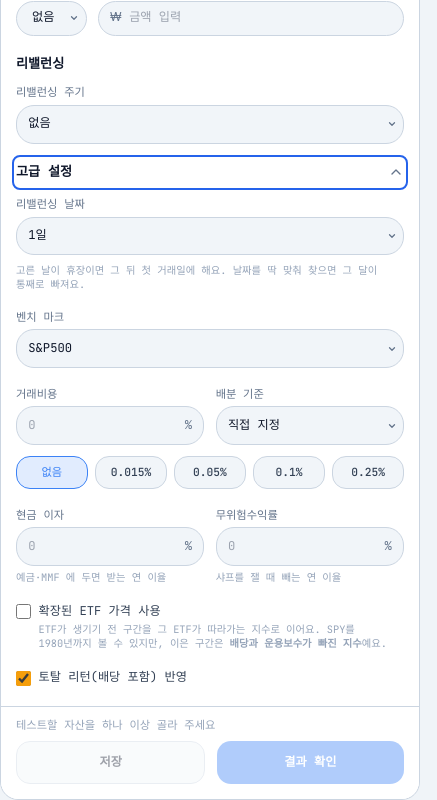
사진에 있던 나머지 항목 › 흔한 수수료는 버튼으로 한 번에 — '반영 안 함' 은 칩에 '없음' 으로(잘리지 않게)
The image size is (437, 800).
Earlier steps of the test are not shown.
(page scrolled)
Check: the button with aria-label "거래비용 반영 안 함" reads "없음", box [16,456,88,489]
Click the button named "거래비용 0.1%" at (289, 473), box [253,456,325,489]
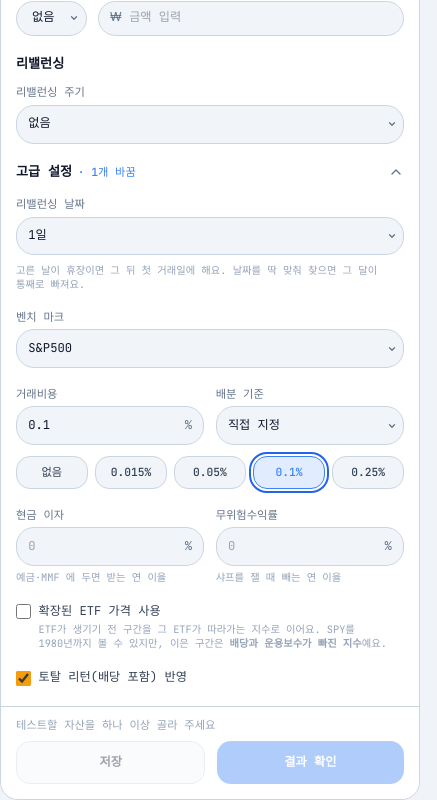
Check: the field labelled "거래비용" holds "0.1", box [28,407,181,444]
Click the button with aria-label "거래비용 반영 안 함" at (52, 473), box [16,456,88,489]
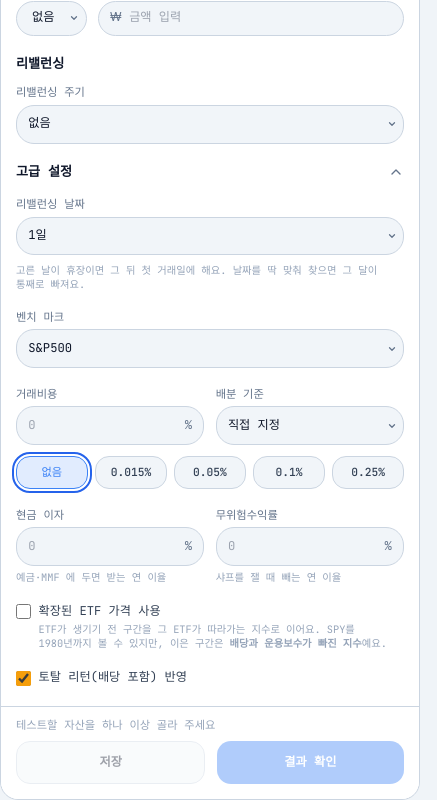
Check: the field labelled "거래비용" is empty, box [28,407,181,444]
